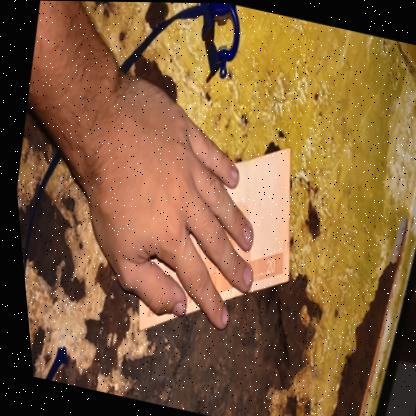vef_back: (115, 118, 318, 360)
